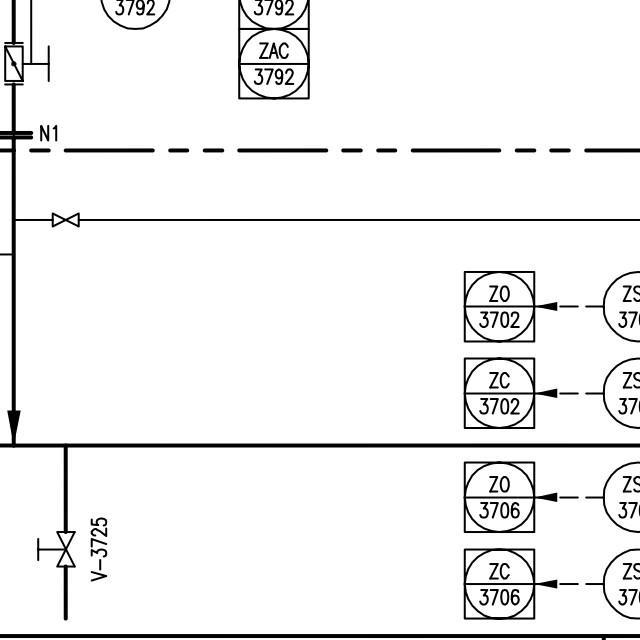BV: (0, 35, 57, 89)
GV: (46, 209, 82, 232)
HV: (30, 525, 79, 572)
